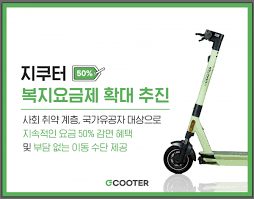kick_body: (207, 150, 246, 164)
kick_handler: (194, 28, 224, 50)
kick_neck: (188, 53, 218, 136)
kick_wheel: (163, 141, 193, 173)
